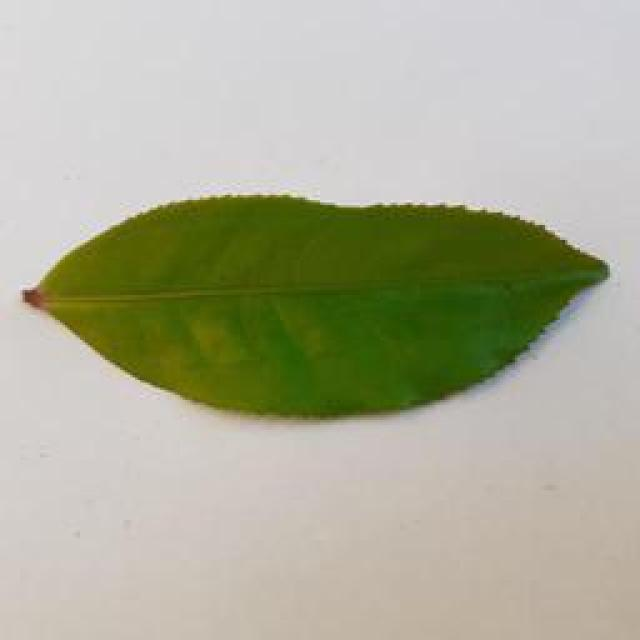Healthy: (6, 174, 640, 438)
